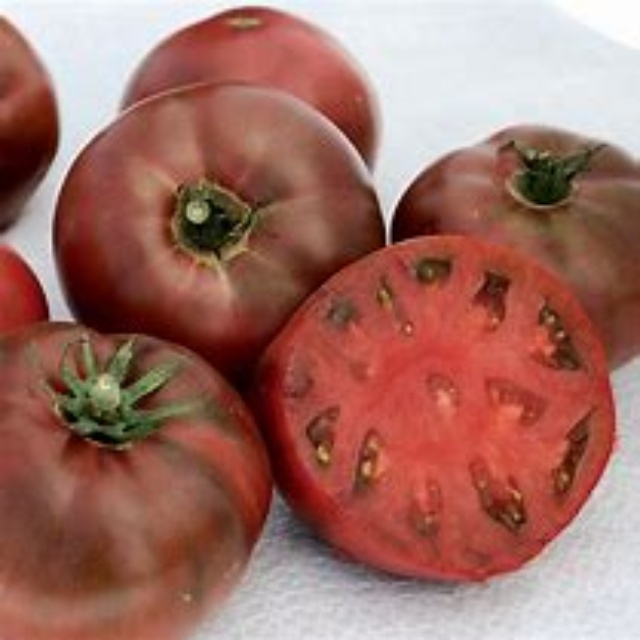tomato: (267, 238, 615, 583), (51, 89, 386, 354), (2, 322, 275, 635), (397, 118, 639, 367), (120, 4, 376, 169)
